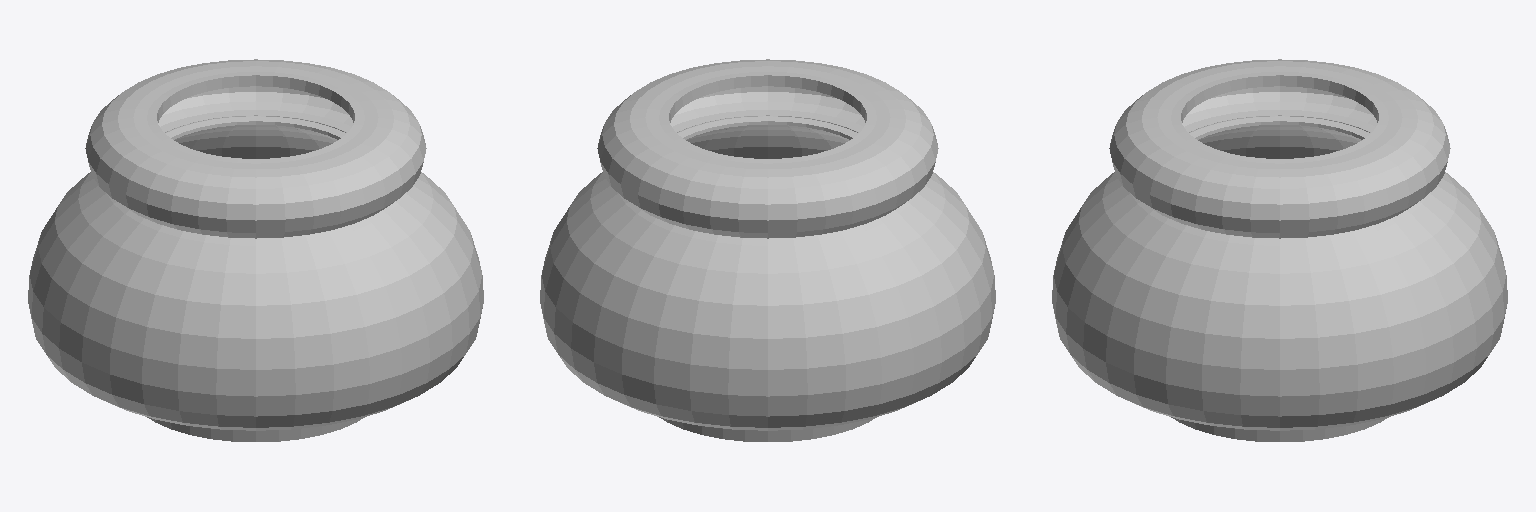
The model's file is fishinbowl.obj.
The picture shows the model from 3 angles: view 1: azimuth 30°, elevation 25°; view 2: azimuth 150°, elevation 25°; view 3: azimuth 270°, elevation 25°; orthographic projection.
Visible parts, largest first — view 1: fishbowl; view 2: fishbowl; view 3: fishbowl.
Boxes of the visible parts, <box> form: fishbowl: <box>28,59,483,441</box>; fishbowl: <box>540,59,995,441</box>; fishbowl: <box>1052,59,1507,441</box>.
Bounding box in the file's own units: 14.67 × 9.89 × 14.73.